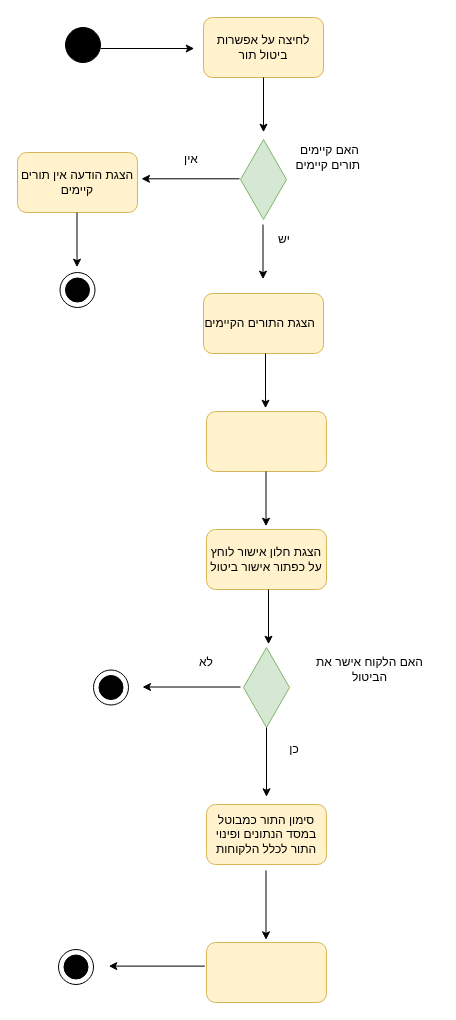
The diagram is 456 pixels wide and 1020 high, and some of its shapes have lost their labels. Each missing label, with the box of its shape:
הצגת הודעת אישור על ביטול התור: (206, 942, 326, 1002)
לחיצה על ביטול תור ליד התור הרלוונטי: (206, 410, 326, 472)
